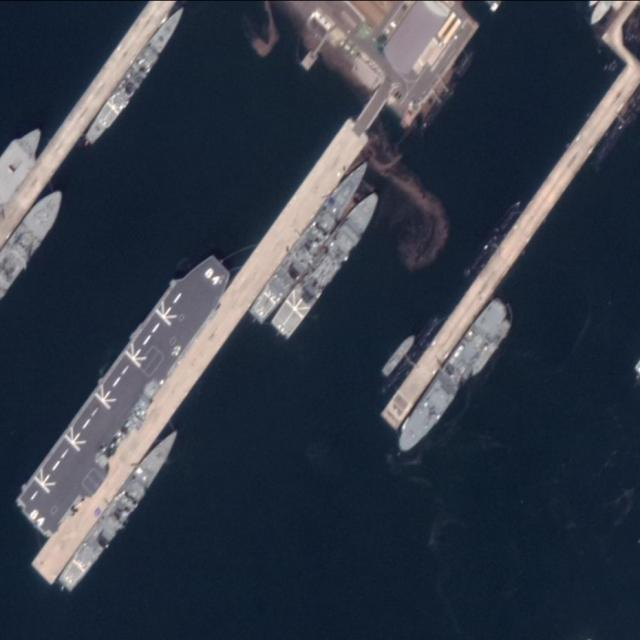Auxiliary Ships: (390, 292, 513, 456)
Destroyer: (6, 246, 236, 537), (52, 423, 186, 594), (245, 155, 377, 328), (80, 1, 187, 150)
Dock: (36, 92, 383, 586), (377, 76, 636, 431)
Landing: (270, 187, 387, 340)
Other Warship: (467, 318, 514, 380), (379, 332, 418, 378)
Submarine: (462, 200, 523, 279), (382, 313, 442, 393), (419, 50, 474, 130)
